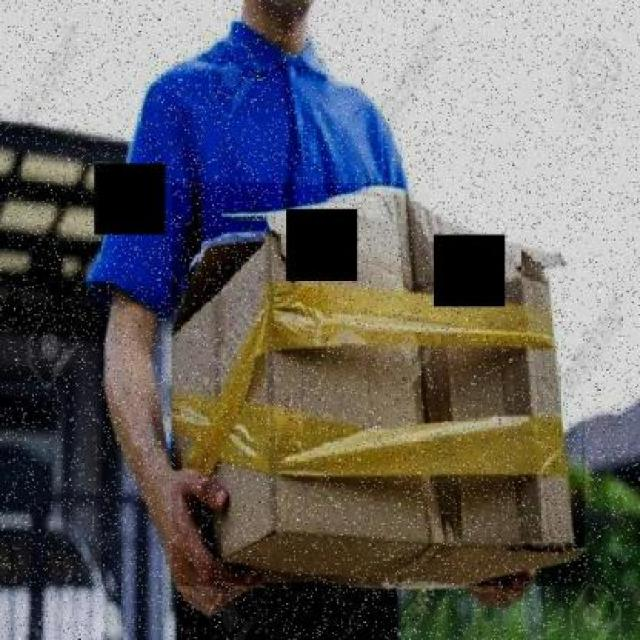box: (172, 183, 586, 586)
